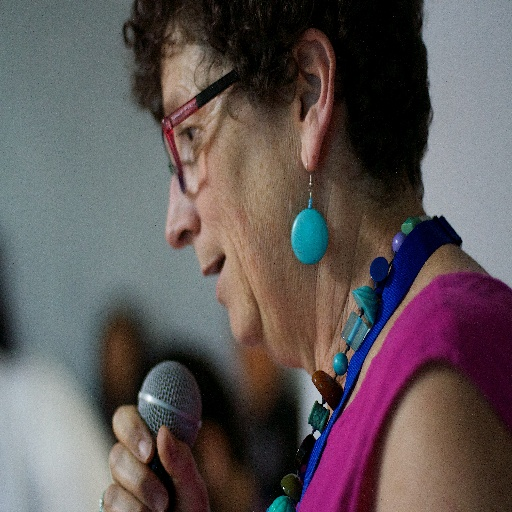hand: (94, 412, 195, 503)
